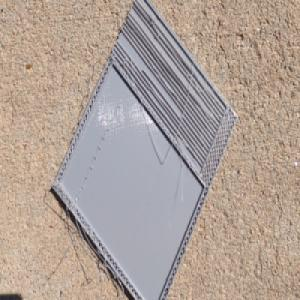PlasticPart: (50, 1, 240, 300)
